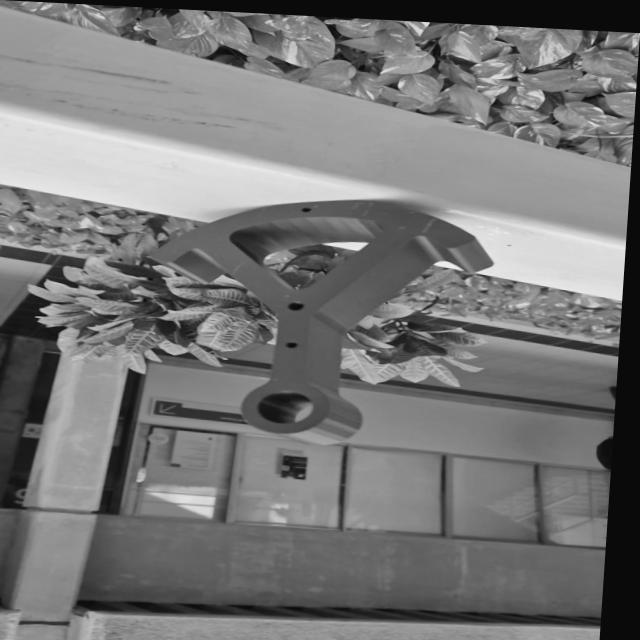haptic: (137, 188, 500, 456)
